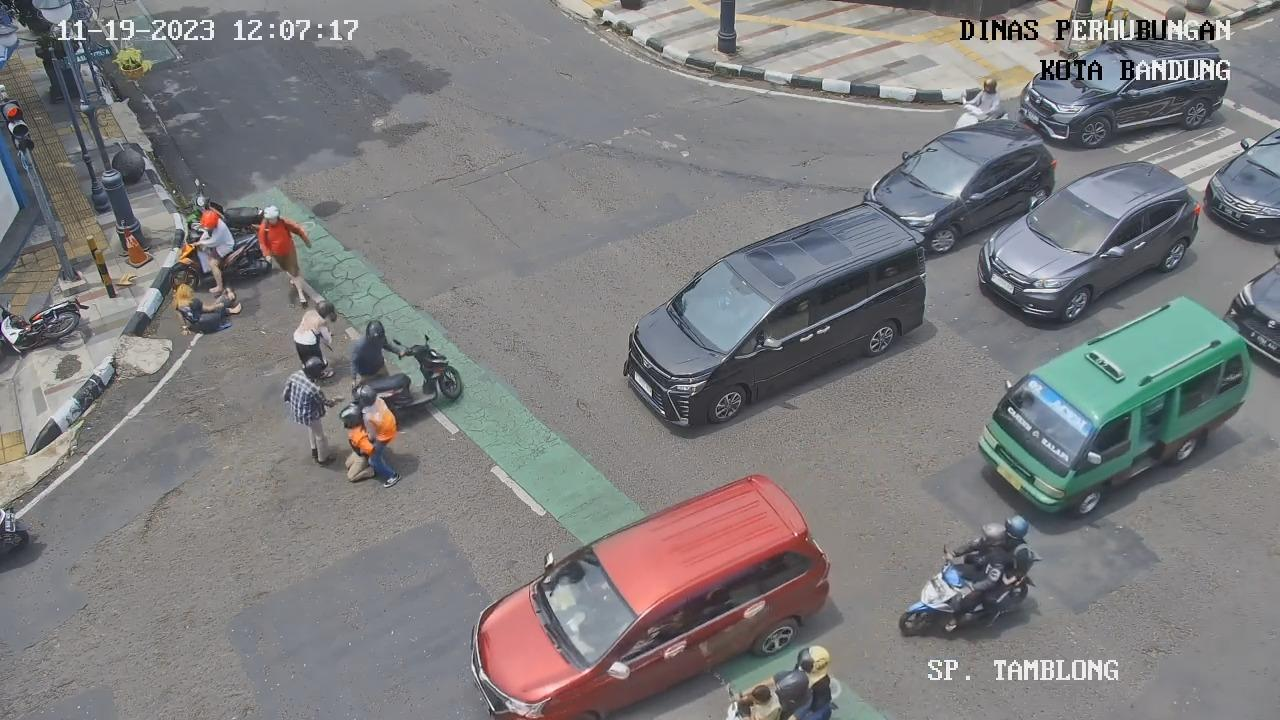accident: (169, 280, 248, 355), (335, 400, 378, 490)
